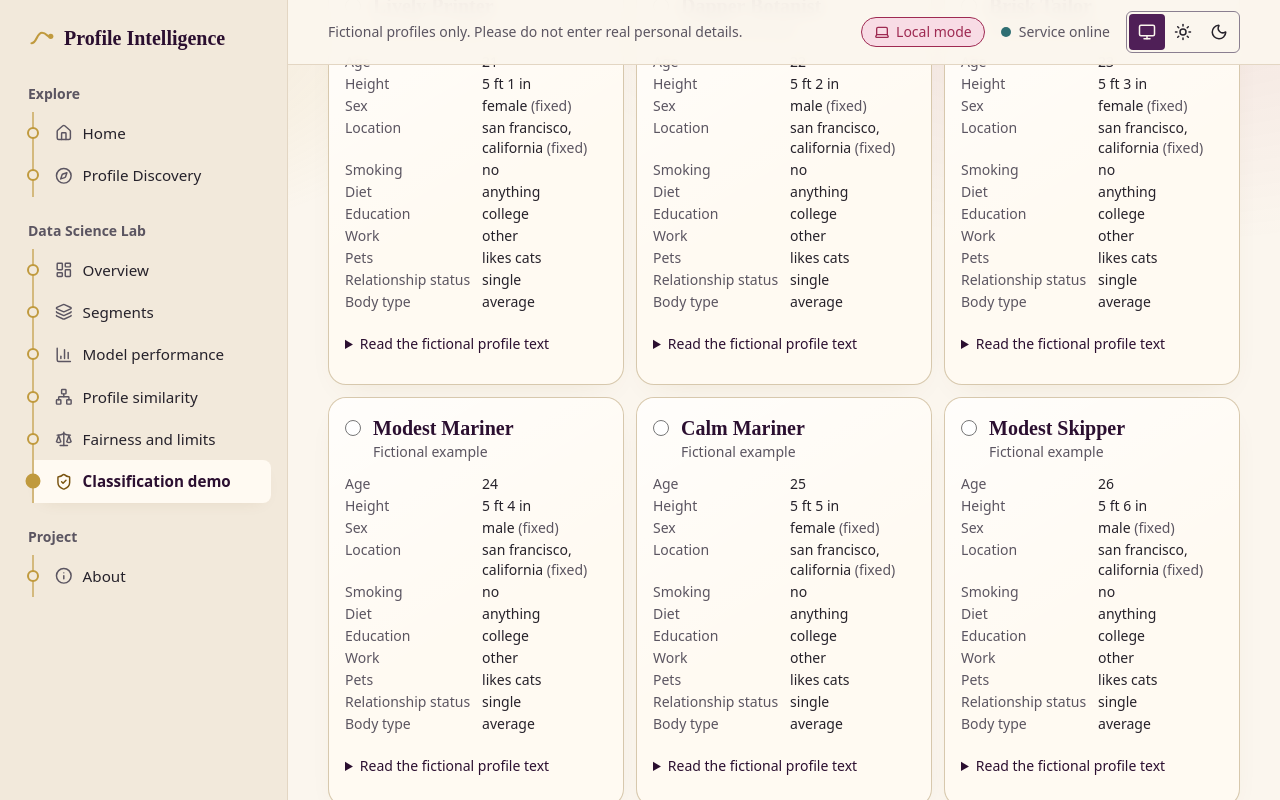
the demonstration in local mode › sends only the example name
The width and height of the screenshot is (1280, 800).
(page scrolled)
Click the radio button labelled "Modest Mariner Fictional example" at coordinates (353, 428), box [345,420,361,436]
(page scrolled)
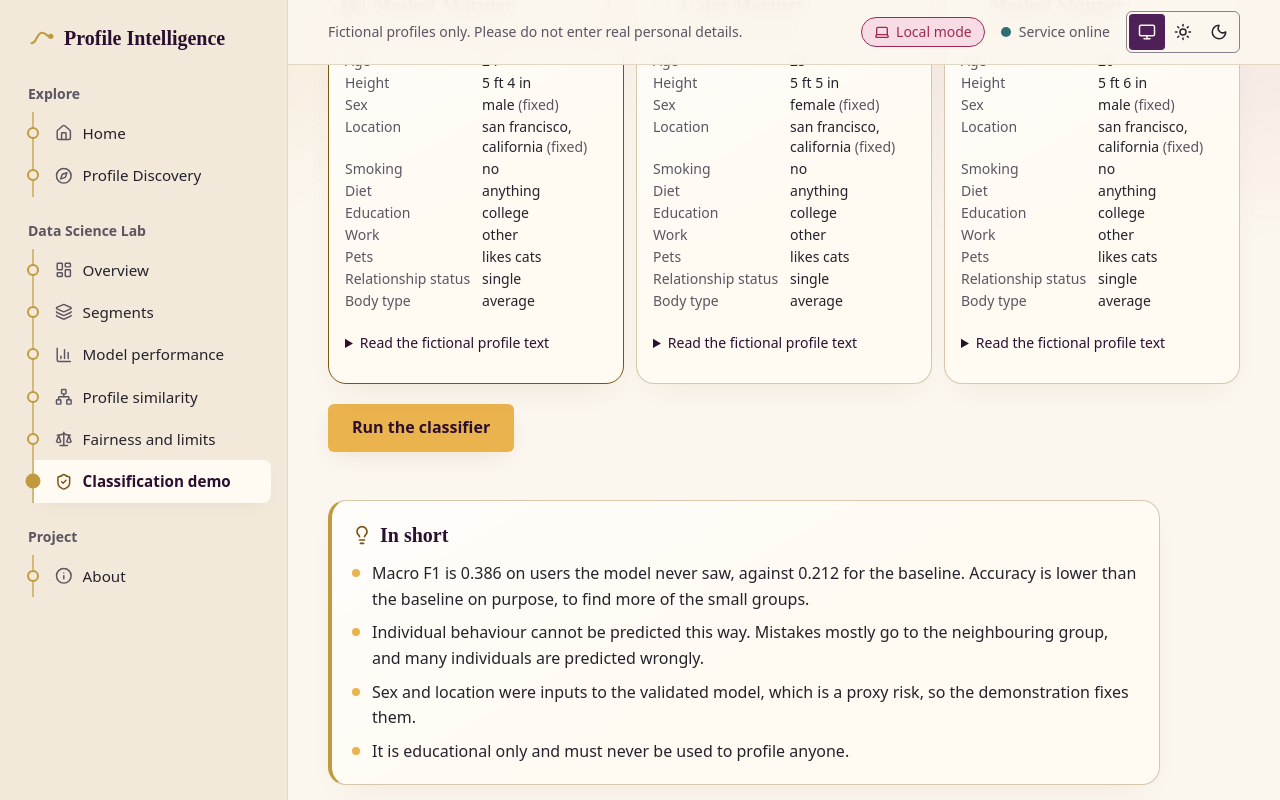
Click the button "Run the classifier" at coordinates (421, 428), box [328,404,514,452]
(page scrolled)
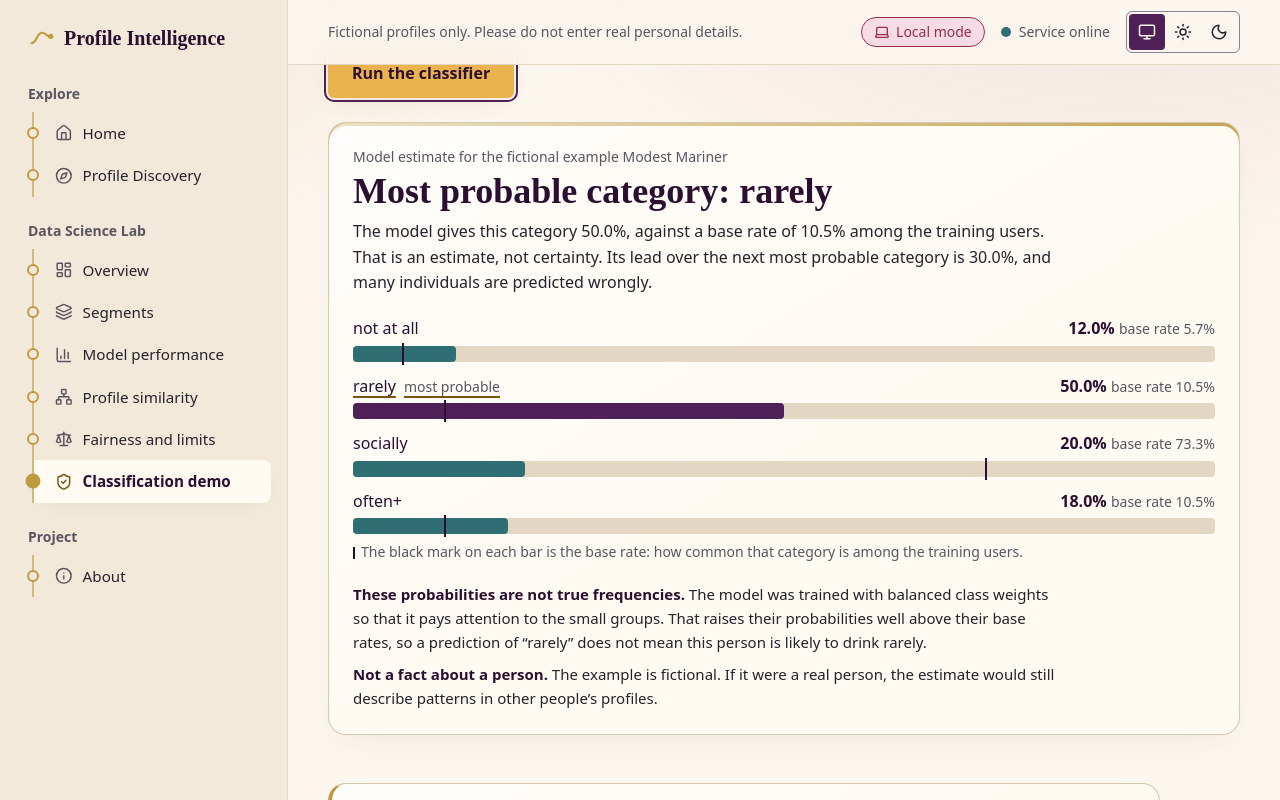
Expected: the element with test id "prediction" is shown, [328,122,1240,735]
